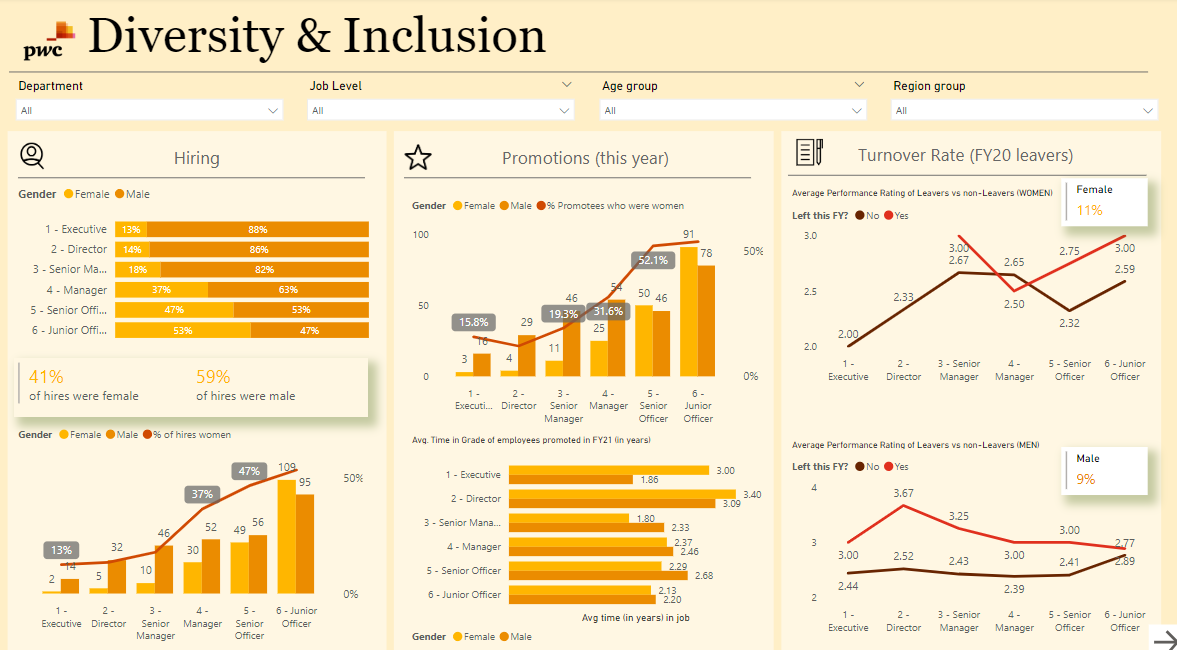

Layout of this report page (visuals, bound fields, positions):
{"tool":"powerbi","page":{"name":"HR Manager I","canvas":[1280,720],"ordinal":0},"visuals":[{"type":"textbox","box":[88.7,4.8,1172.9,75.2],"z":0},{"type":"basicShape","box":[0,60.8,1253,40.5],"z":1000},{"type":"basicShape","box":[3.9,139.9,418.6,579.7],"z":2000},{"type":"hundredPercentStackedBarChart","fields":{"Series":["HR Manager.Gender"],"Y":["CountNonNull(HR Manager.Employee ID)"],"Category":["HR Manager.Job Level after FY20 promotions"]},"box":[14.5,193.9,389.7,190],"z":3000},{"type":"multiRowCard","fields":{"Values":["HR Manager.% of hires women","HR Manager.% of hires men"]},"box":[14.5,390.7,382.9,63.7],"z":4000},{"type":"lineClusteredColumnComboChart","fields":{"Category":["HR Manager.Job Level after FY20 promotions"],"Series":["HR Manager.Gender"],"Y":["CountNonNull(HR Manager.Employee ID)"],"Y2":["HR Manager.% of hires women"]},"box":[14.5,455.3,382.9,250.8],"z":5000},{"type":"textbox","box":[55,155.3,315.4,35.7],"z":6000},{"type":"basicShape","box":[9.6,175.6,395.5,39.5],"z":7000},{"type":"basicShape","box":[422.5,139.9,419.6,579.7],"z":8000},{"type":"textbox","box":[473,155.7,315.4,35.7],"z":9000},{"type":"basicShape","box":[427.7,175.9,395.5,39.5],"z":10000},{"type":"image","box":[433.1,153.4,39.5,40.5],"z":11000},{"type":"lineClusteredColumnComboChart","fields":{"Y":["CountNonNull(HR Manager.Employee ID)"],"Series":["HR Manager.Gender"],"Y2":["HR Manager.% Promotees who were women"],"Category":["HR Manager.Job Level after FY21 promotions"]},"box":[441.8,207.4,389.7,263.3],"z":12000},{"type":"image","box":[5.4,0,96.1,94.7],"z":13000},{"type":"image","box":[15.4,153.4,39.5,38.6],"z":15000},{"type":"basicShape","box":[842.1,139.9,419.6,579.7],"z":16000},{"type":"basicShape","box":[843.4,173,408,39.5],"z":17000},{"type":"textbox","box":[888.5,152.5,315.4,35.7],"z":18000},{"type":"clusteredBarChart","title":"Avg. Time in Grade of employees promoted in FY21 (in years)","fields":{"Category":["HR Manager.Job Level after FY20 promotions"],"Series":["HR Manager.Gender"],"Y":["Avg(HR Manager.Time in Job Level @01.07.2020)"]},"box":[441.8,473.6,389.7,236.3],"z":19000},{"type":"lineChart","title":"Average Performance Rating of Leavers vs non-Leavers (WOMEN)","fields":{"Category":["HR Manager.Job Level after FY20 promotions"],"Y":["Avg(HR Manager.FY19 Performance Rating)"],"Series":["HR Manager.FY20 leaver?"]},"box":[852.7,207.4,398.4,218],"z":20000},{"type":"lineChart","title":"Average Performance Rating of Leavers vs non-Leavers (MEN)","fields":{"Category":["HR Manager.Job Level after FY20 promotions"],"Y":["Avg(HR Manager.FY19 Performance Rating)"],"Series":["HR Manager.FY20 leaver?"]},"box":[852.7,479.4,398.4,218],"z":21000},{"type":"multiRowCard","fields":{"Values":["HR Manager.Gender","HR Manager.% Turnover"]},"box":[1148.8,195.8,93.6,52.1],"z":22000},{"type":"multiRowCard","fields":{"Values":["HR Manager.Gender","HR Manager.% Turnover"]},"box":[1148.8,487.1,93.6,52.1],"z":23000},{"type":"slicer","fields":{"Values":["HR Manager.Last Department in FY20"]},"box":[6.8,83.9,310,55.9],"z":24000},{"type":"slicer","fields":{"Values":["HR Manager.Job Level after FY20 promotions"]},"box":[322.5,83.9,310,55.9],"z":25000},{"type":"slicer","fields":{"Values":["HR Manager.Age group"]},"box":[638.2,83.9,310,55.9],"z":26000},{"type":"slicer","fields":{"Values":["HR Manager.Broad region group: nationality 1"]},"box":[954,83.9,310,55.9],"z":27000},{"type":"image","box":[852.7,149.5,47.3,38.6],"z":28000},{"type":"actionButton","box":[1243.1,679.1,36.9,40.2],"z":29000}]}

Visuals, with their boxes in screenshot pixels (x1, y1, x2, y2), scaled from the page's 1280x720 canvas onto the 1177x650 screenshot:
textbox: pyautogui.locateOnScreen(82, 4, 1160, 72)
basicShape: pyautogui.locateOnScreen(0, 55, 1152, 91)
basicShape: pyautogui.locateOnScreen(4, 126, 389, 649)
hundredPercentStackedBarChart - HR Manager.Gender x CountNonNull(HR Manager.Employee ID): pyautogui.locateOnScreen(13, 175, 372, 347)
multiRowCard - HR Manager.% of hires women x HR Manager.% of hires men: pyautogui.locateOnScreen(13, 353, 365, 410)
lineClusteredColumnComboChart - HR Manager.Job Level after FY20 promotions x HR Manager.Gender: pyautogui.locateOnScreen(13, 411, 365, 637)
textbox: pyautogui.locateOnScreen(51, 140, 341, 172)
basicShape: pyautogui.locateOnScreen(9, 159, 373, 194)
basicShape: pyautogui.locateOnScreen(389, 126, 774, 649)
textbox: pyautogui.locateOnScreen(435, 141, 725, 173)
basicShape: pyautogui.locateOnScreen(393, 159, 757, 194)
image: pyautogui.locateOnScreen(398, 138, 435, 175)
lineClusteredColumnComboChart - CountNonNull(HR Manager.Employee ID) x HR Manager.Gender: pyautogui.locateOnScreen(406, 187, 765, 425)
image: pyautogui.locateOnScreen(5, 0, 93, 85)
image: pyautogui.locateOnScreen(14, 138, 50, 173)
basicShape: pyautogui.locateOnScreen(774, 126, 1160, 649)
basicShape: pyautogui.locateOnScreen(776, 156, 1151, 192)
textbox: pyautogui.locateOnScreen(817, 138, 1107, 170)
"Avg. Time in Grade of employees promoted in FY21 (in years)" clusteredBarChart: pyautogui.locateOnScreen(406, 428, 765, 641)
"Average Performance Rating of Leavers vs non-Leavers (WOMEN)" lineChart: pyautogui.locateOnScreen(784, 187, 1150, 384)
"Average Performance Rating of Leavers vs non-Leavers (MEN)" lineChart: pyautogui.locateOnScreen(784, 433, 1150, 630)
multiRowCard - HR Manager.Gender x HR Manager.% Turnover: pyautogui.locateOnScreen(1056, 177, 1142, 224)
multiRowCard - HR Manager.Gender x HR Manager.% Turnover: pyautogui.locateOnScreen(1056, 440, 1142, 487)
slicer - HR Manager.Last Department in FY20: pyautogui.locateOnScreen(6, 76, 291, 126)
slicer - HR Manager.Job Level after FY20 promotions: pyautogui.locateOnScreen(297, 76, 582, 126)
slicer - HR Manager.Age group: pyautogui.locateOnScreen(587, 76, 872, 126)
slicer - HR Manager.Broad region group: nationality 1: pyautogui.locateOnScreen(877, 76, 1162, 126)
image: pyautogui.locateOnScreen(784, 135, 828, 170)
actionButton: pyautogui.locateOnScreen(1143, 613, 1176, 649)
